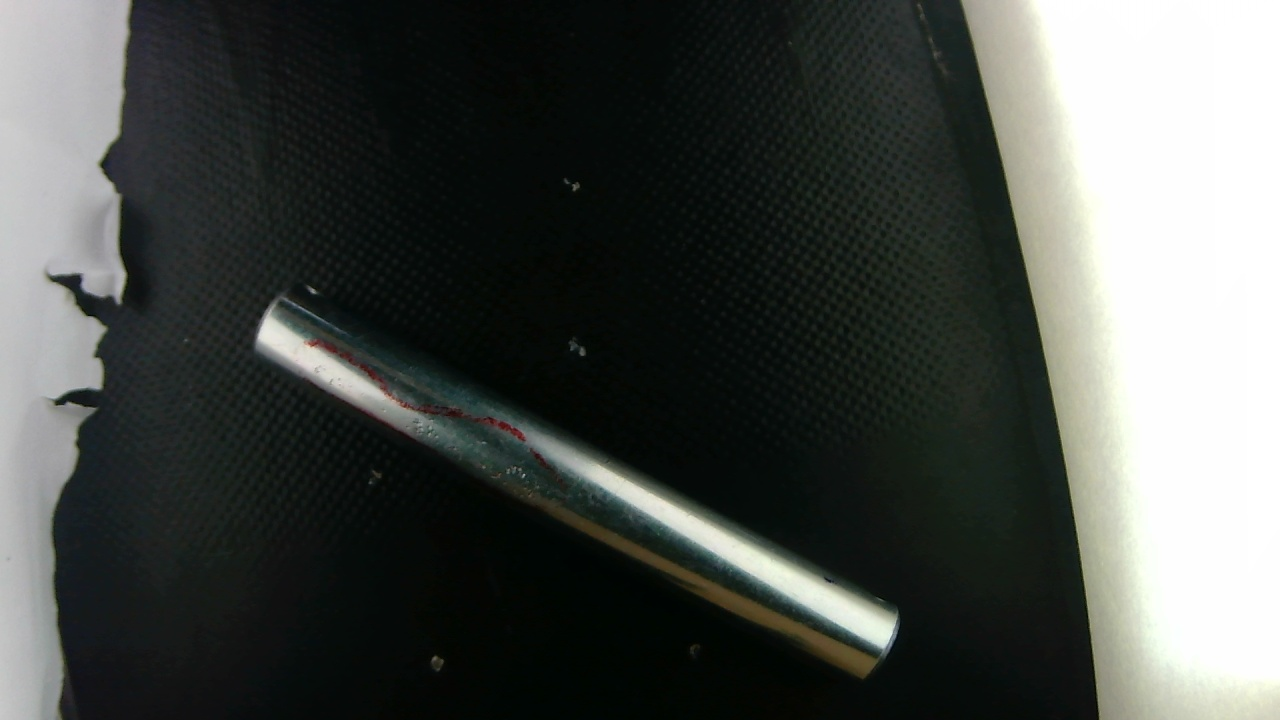pitmark_pin: (370, 404, 537, 502)
